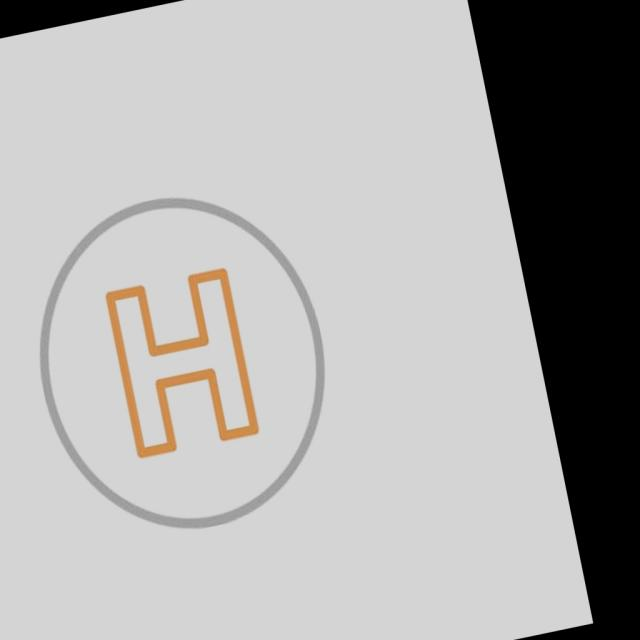helipad: (32, 191, 332, 533)
